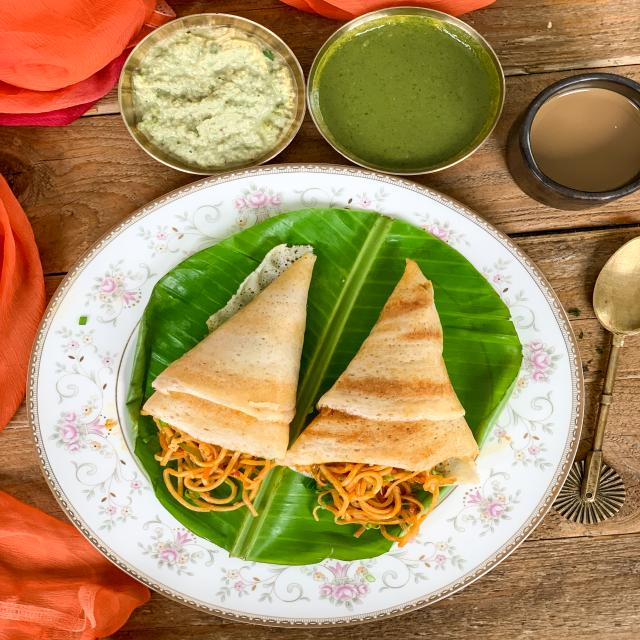chutney: (128, 24, 285, 180)
dosa: (300, 246, 482, 486), (154, 245, 324, 456)
